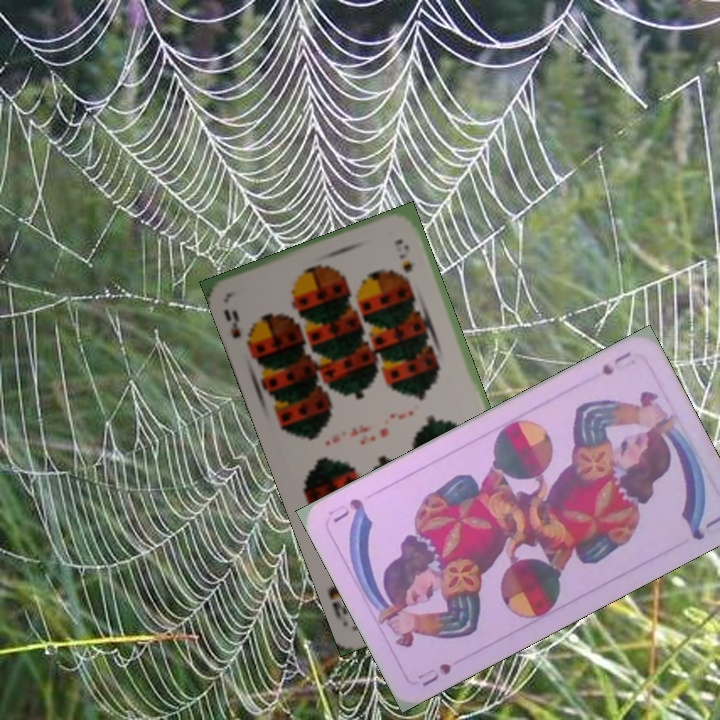S9: (220, 305, 258, 352)
SU: (413, 659, 454, 689), (597, 348, 633, 378)
